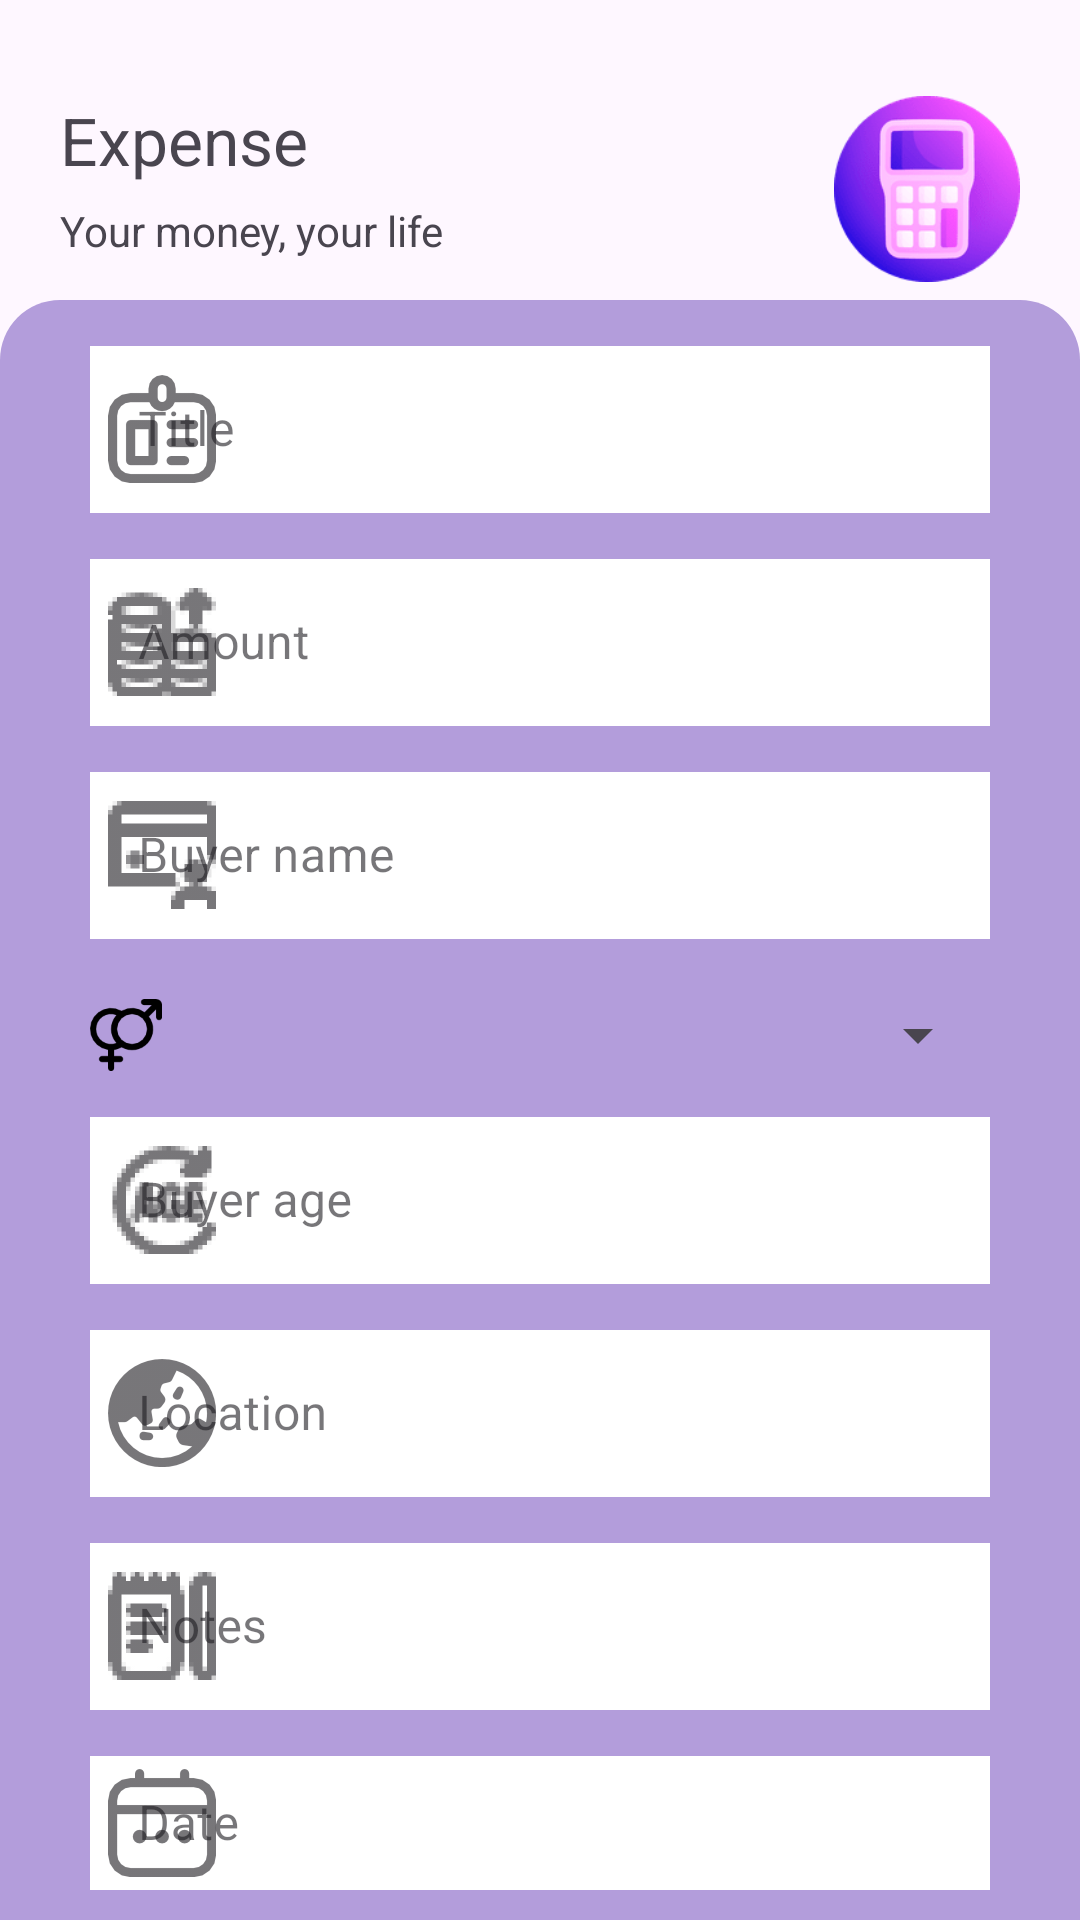

Icon bounding boxes for this 1080×1920 phone screenshot, format box=[x1, y1, x2, y2]:
Buyer gender: box=[90, 999, 162, 1071]
calculator optimized: box=[834, 96, 1020, 282]
